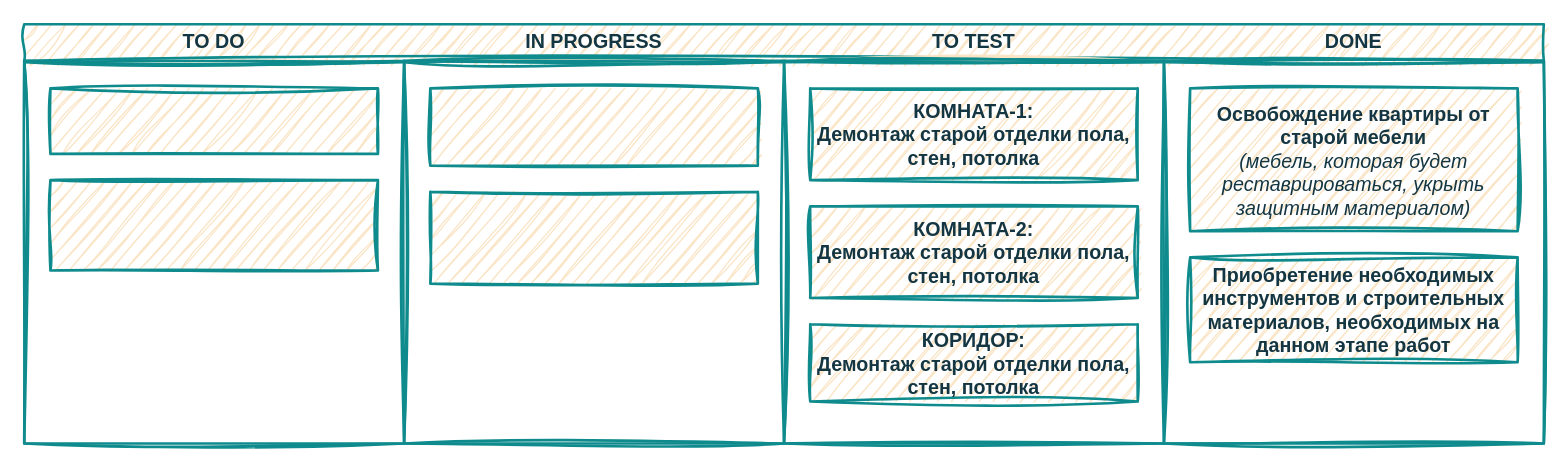
Image size: 1567x466. Some labels were removed from this diagram. Here are the shapes that lost their labels. From the top down, the centre of each, then its label:
At [213,120]: "Разбор инженерных коммуникаций".
At [593,126]: "Реконструкция/замена дверных и оконных конструкций".
At [213,224]: "САНУЗЕЛ: Демонтаж старой отделки пола, стен, потолка".
At [593,237]: "КУХНЯ: Демонтаж старой отделки пола, стен, потолка".
